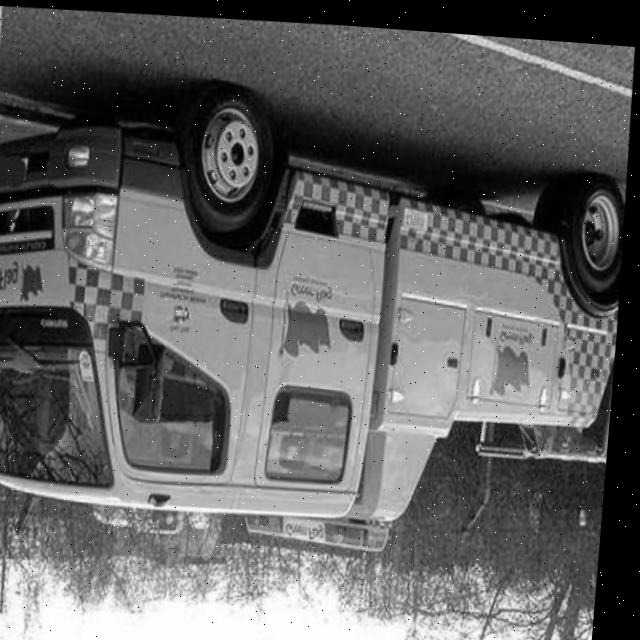truck: (1, 72, 421, 547)
